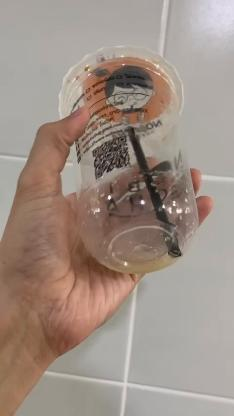Plastic Cup: (59, 46, 200, 276)
